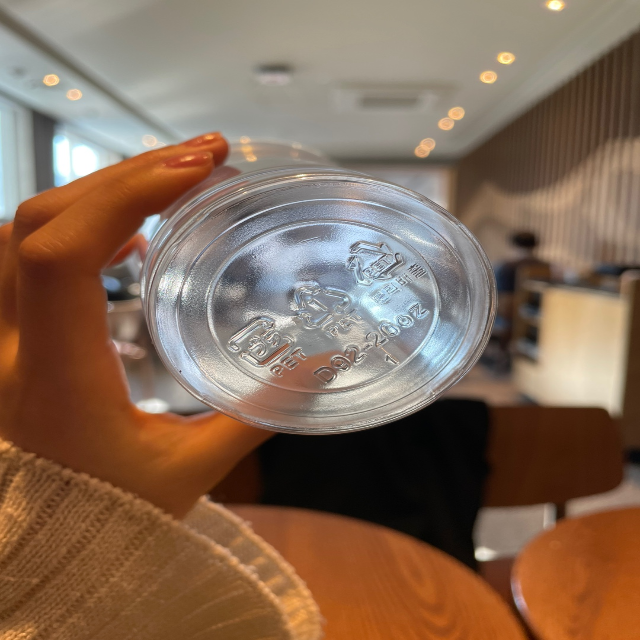pet: (347, 232, 432, 305), (225, 311, 312, 380), (289, 270, 363, 339)
